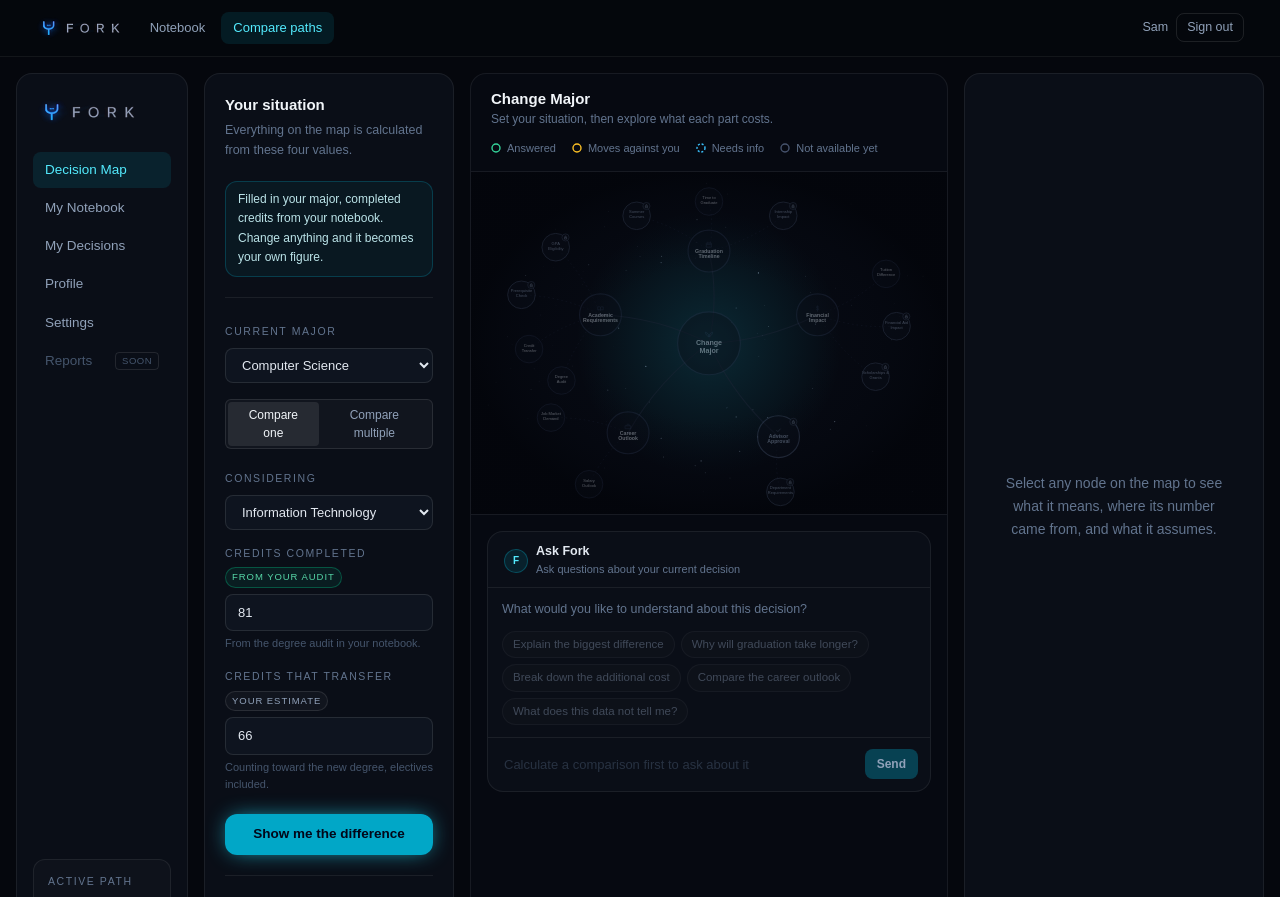
Test: saving to the notebook › sends the calculated inputs, never the result
The width and height of the screenshot is (1280, 897).
Step 1. Click the button "Show me the difference" → (329, 834), box [225, 814, 433, 855]
(page scrolled)
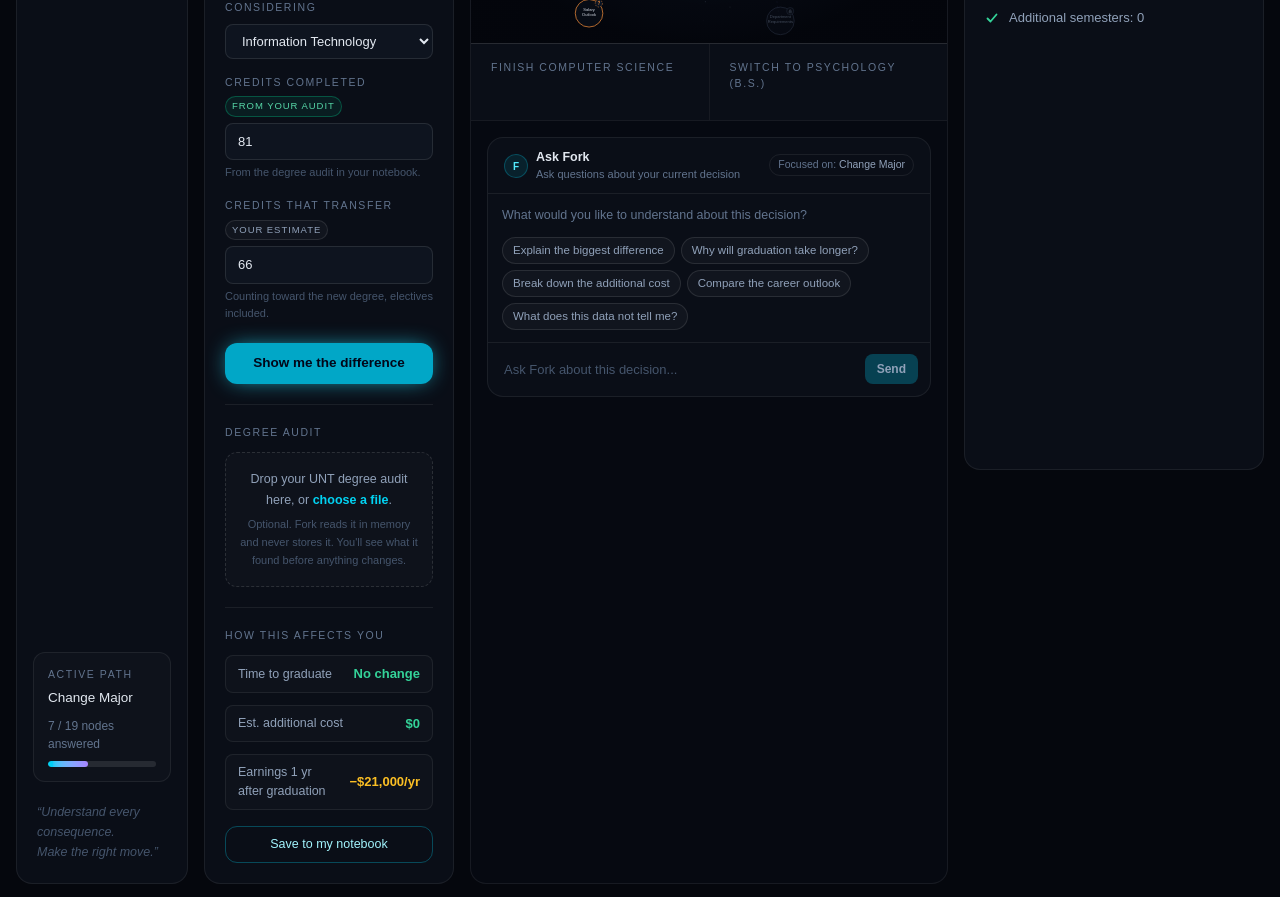
Step 2. Click the button "Save to my notebook" → (329, 844), box [225, 826, 433, 863]
(page scrolled)
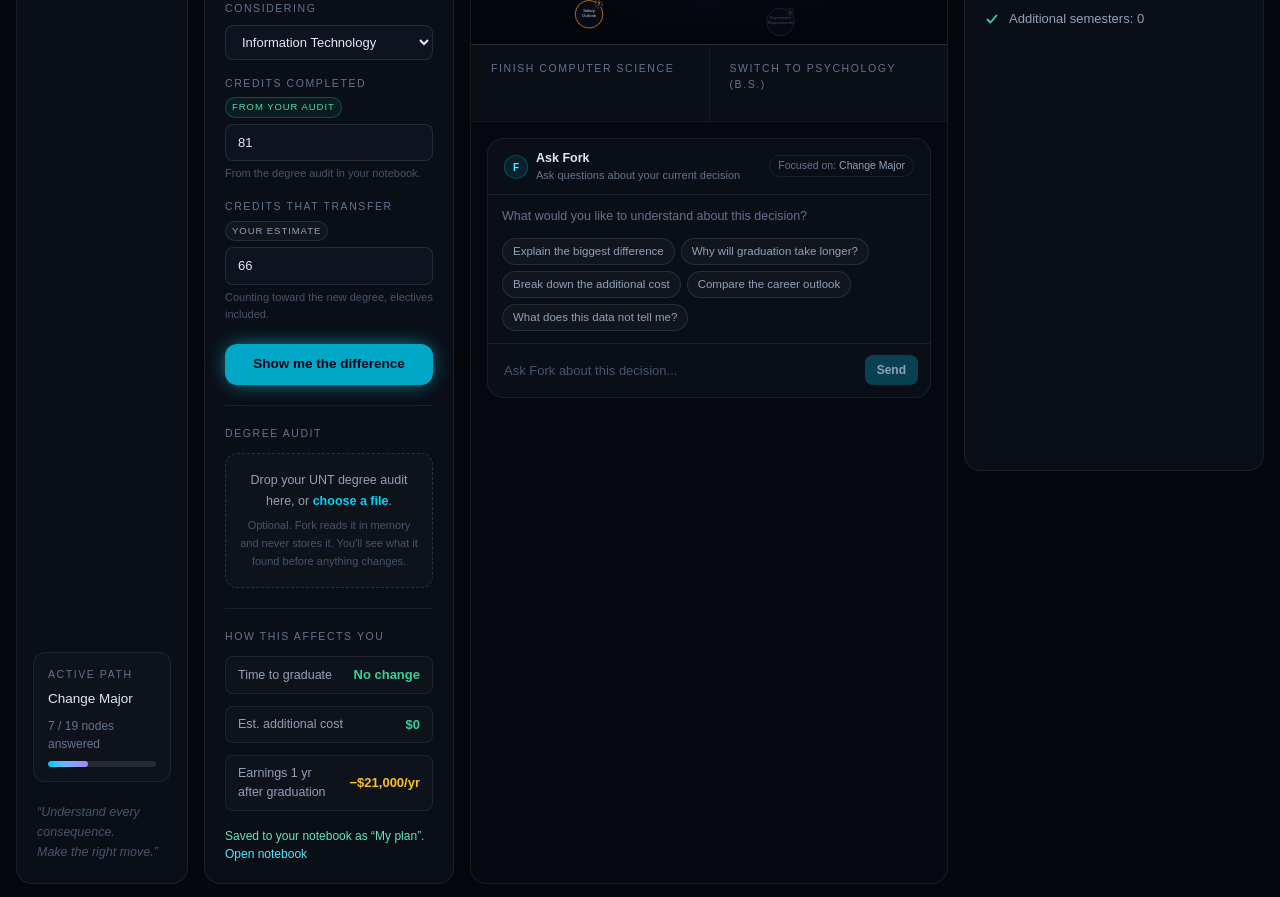
Result: the text "Saved to your notebook as “My plan”. Open notebook" is shown at [225, 827, 433, 863]
